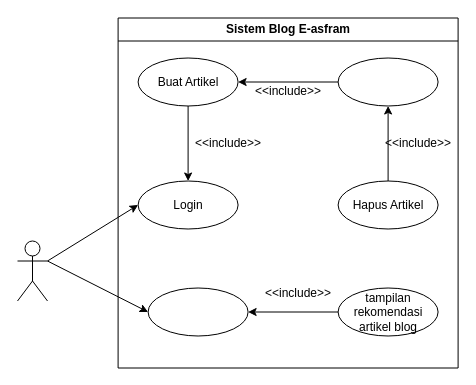
This 476x385 diagram has some shape labels left out. The box of each missing label's shape, as (x1, y1, x2, y2) in pixels:
baca artikel blog: (147, 287, 248, 336)
Edit Artikel: (337, 57, 438, 106)
user: (16, 240, 48, 301)
